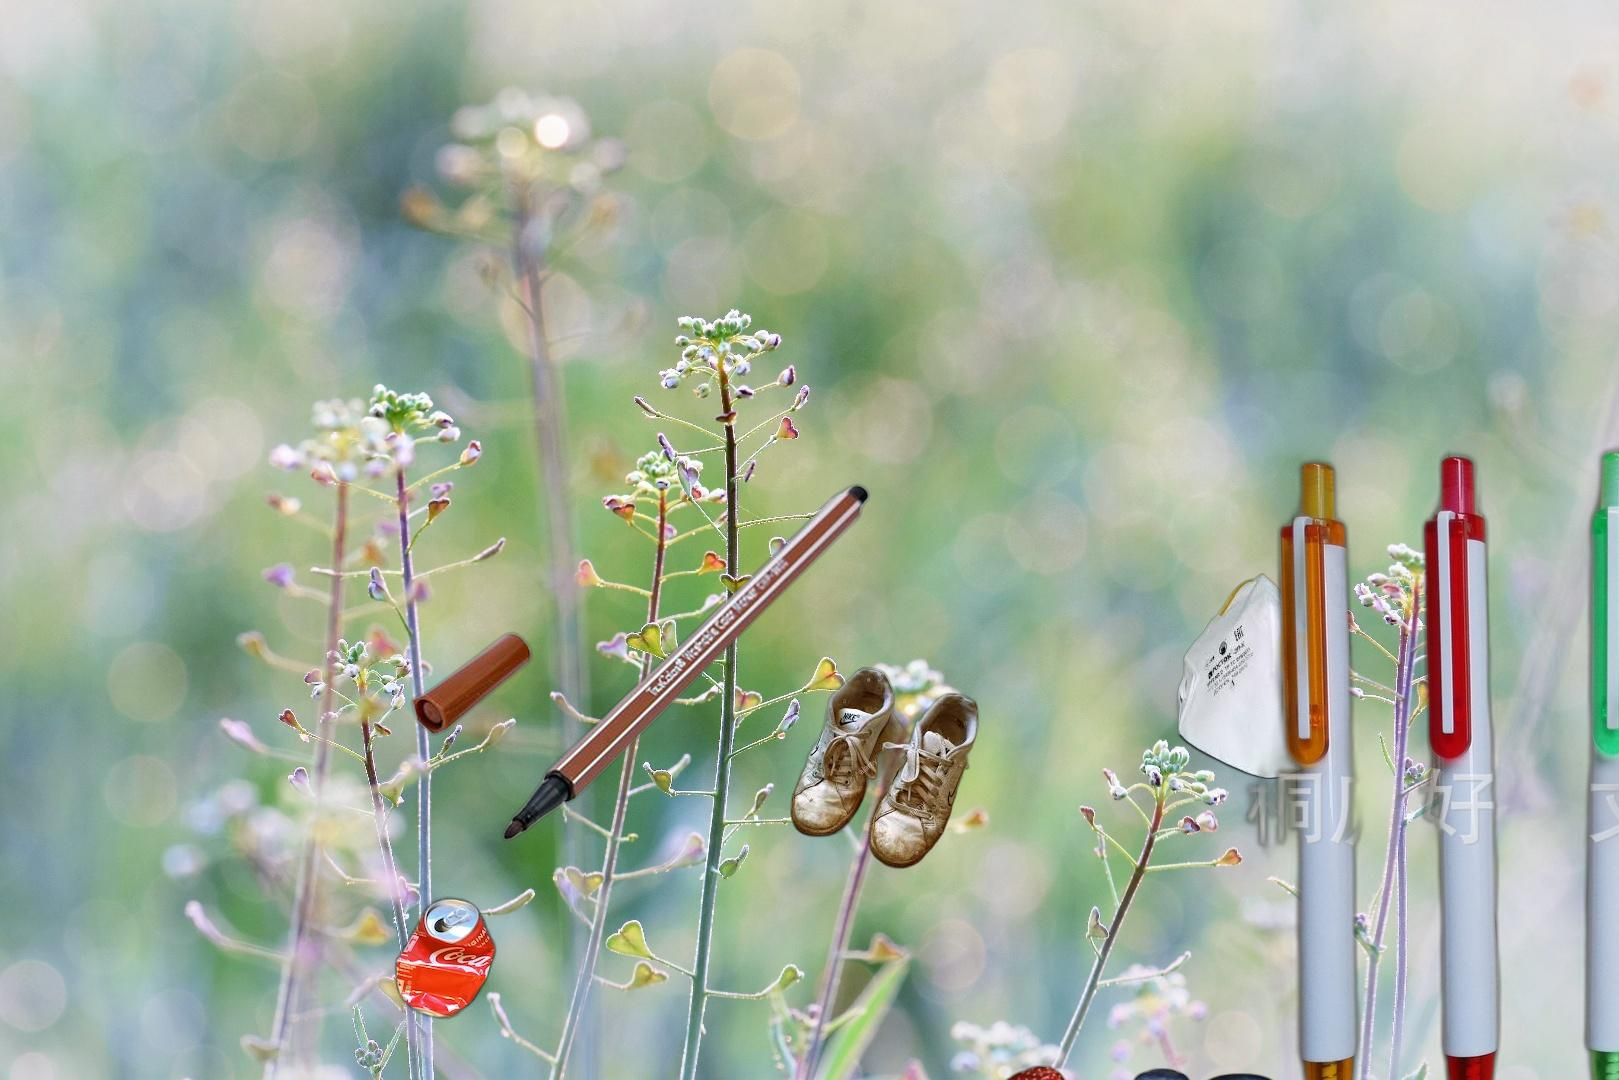metal-cans: (392, 892, 501, 1025)
penholder: (1238, 440, 1619, 1080), (406, 479, 874, 847)
shoes: (788, 664, 981, 871)
trash: (1174, 571, 1347, 781)
trashbox-cardboard: (986, 1053, 1498, 1080)
